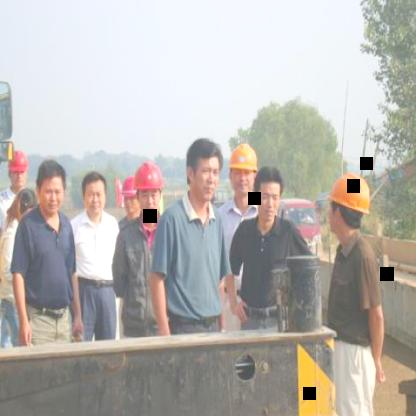head: (184, 132, 222, 208), (252, 162, 286, 230), (36, 153, 68, 221), (80, 167, 110, 221)
helmet: (323, 170, 370, 246), (130, 159, 166, 221), (228, 141, 258, 203), (5, 146, 32, 196), (119, 176, 142, 223)
